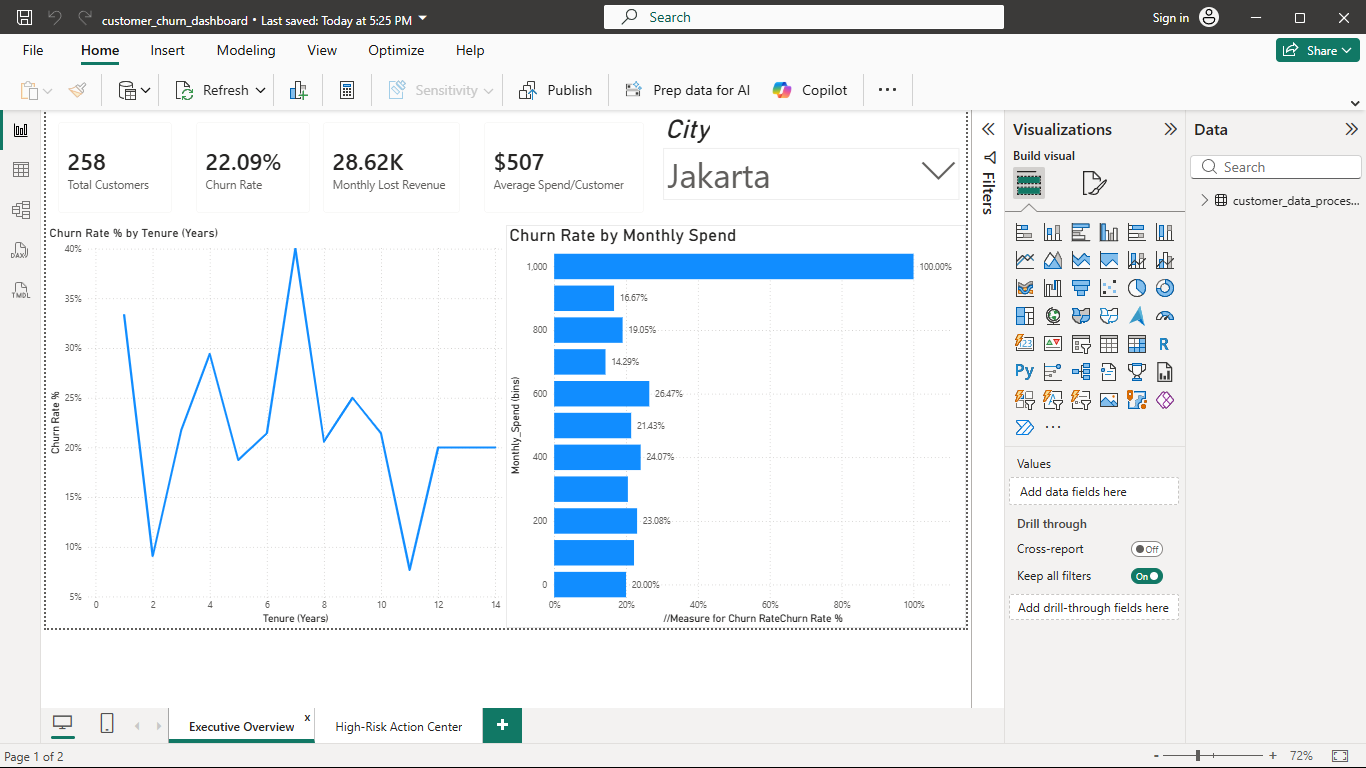

Layout of this report page (visuals, bound fields, positions):
{"tool":"powerbi","page":{"name":"Executive Overview","canvas":[1280,720],"ordinal":0},"visuals":[{"type":"cardVisual","fields":{"Data":["Count(customer_data_processed.CustomerID)"]},"box":[0,0,192,160],"z":0},{"type":"cardVisual","fields":{"Data":["customer_data_processed.//Measure for Churn RateChurn Rate %"]},"box":[192,0,192,160],"z":1000},{"type":"cardVisual","fields":{"Data":["Avg(customer_data_processed.Monthly_Spend)"]},"box":[592,0,256,160],"z":2000},{"type":"cardVisual","fields":{"Data":["customer_data_processed.Lost Revenue"]},"box":[368,0,224,160],"z":3000},{"type":"lineChart","fields":{"Y":["customer_data_processed.//Measure for Churn RateChurn Rate %"],"Category":["customer_data_processed.Years"]},"box":[0,160,640,560],"z":4000},{"type":"clusteredBarChart","title":"Churn Rate by Monthly Spend","fields":{"Category":["customer_data_processed.Monthly_Spend (bins)"],"Y":["customer_data_processed.//Measure for Churn RateChurn Rate %"]},"box":[640,160,640,560],"z":5000},{"type":"slicer","fields":{"Values":["customer_data_processed.City"]},"box":[848,0,432,160],"z":6000}]}

Visuals, with their boxes on the page's 1280x720 design canvas (x1, y1, x2, y2). These are canvas units, not pixel positions in the 1366x768 screenshot, which may show the page scaled, cropped or inside an application window:
cardVisual - Count(customer_data_processed.CustomerID): [x1=0, y1=0, x2=192, y2=160]
cardVisual - customer_data_processed.//Measure for Churn RateChurn Rate %: [x1=192, y1=0, x2=384, y2=160]
cardVisual - Avg(customer_data_processed.Monthly_Spend): [x1=592, y1=0, x2=848, y2=160]
cardVisual - customer_data_processed.Lost Revenue: [x1=368, y1=0, x2=592, y2=160]
lineChart - customer_data_processed.//Measure for Churn RateChurn Rate % x customer_data_processed.Years: [x1=0, y1=160, x2=640, y2=720]
"Churn Rate by Monthly Spend" clusteredBarChart: [x1=640, y1=160, x2=1280, y2=720]
slicer - customer_data_processed.City: [x1=848, y1=0, x2=1280, y2=160]
